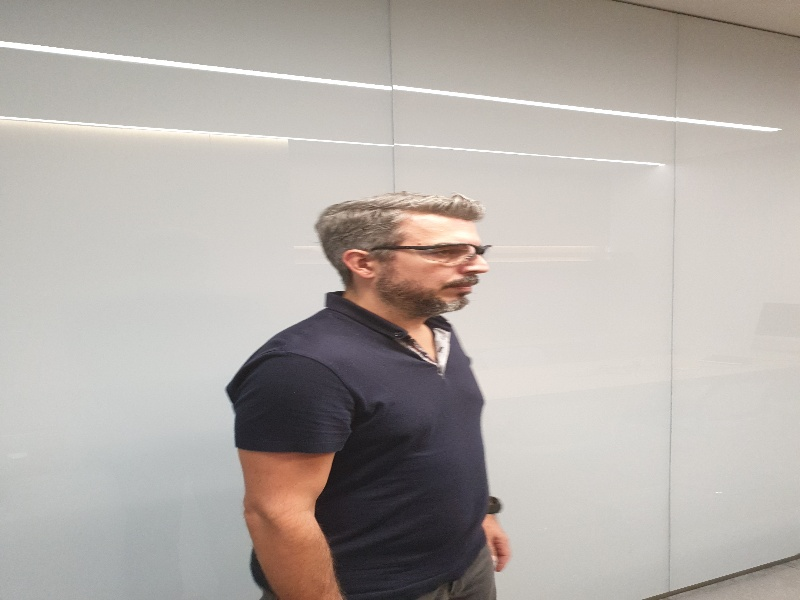Gozluk: (371, 243, 493, 263)
